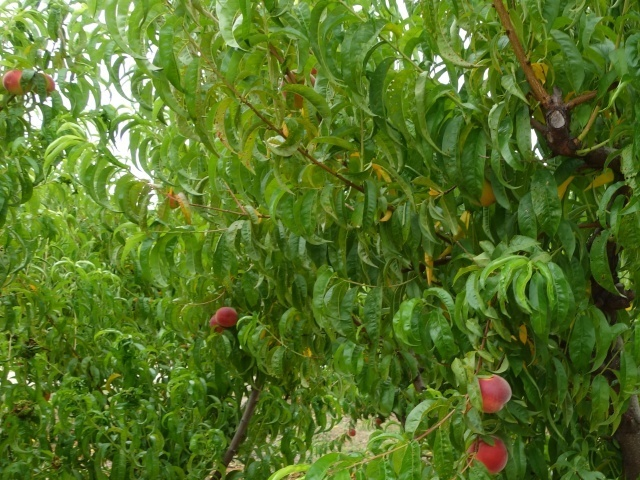peach: (463, 431, 511, 478), (468, 372, 515, 414), (213, 304, 241, 331), (203, 314, 230, 339), (2, 66, 26, 94), (35, 71, 59, 97)
